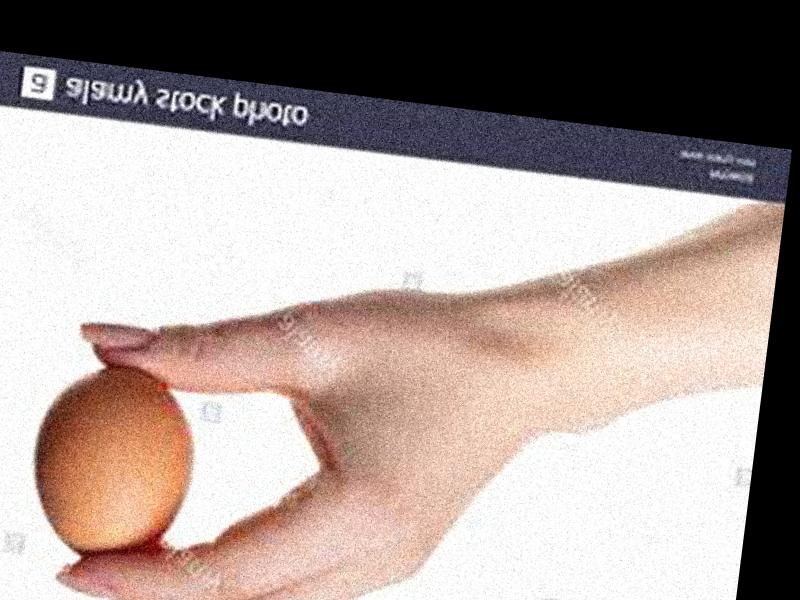Eggs: (22, 358, 210, 568)
